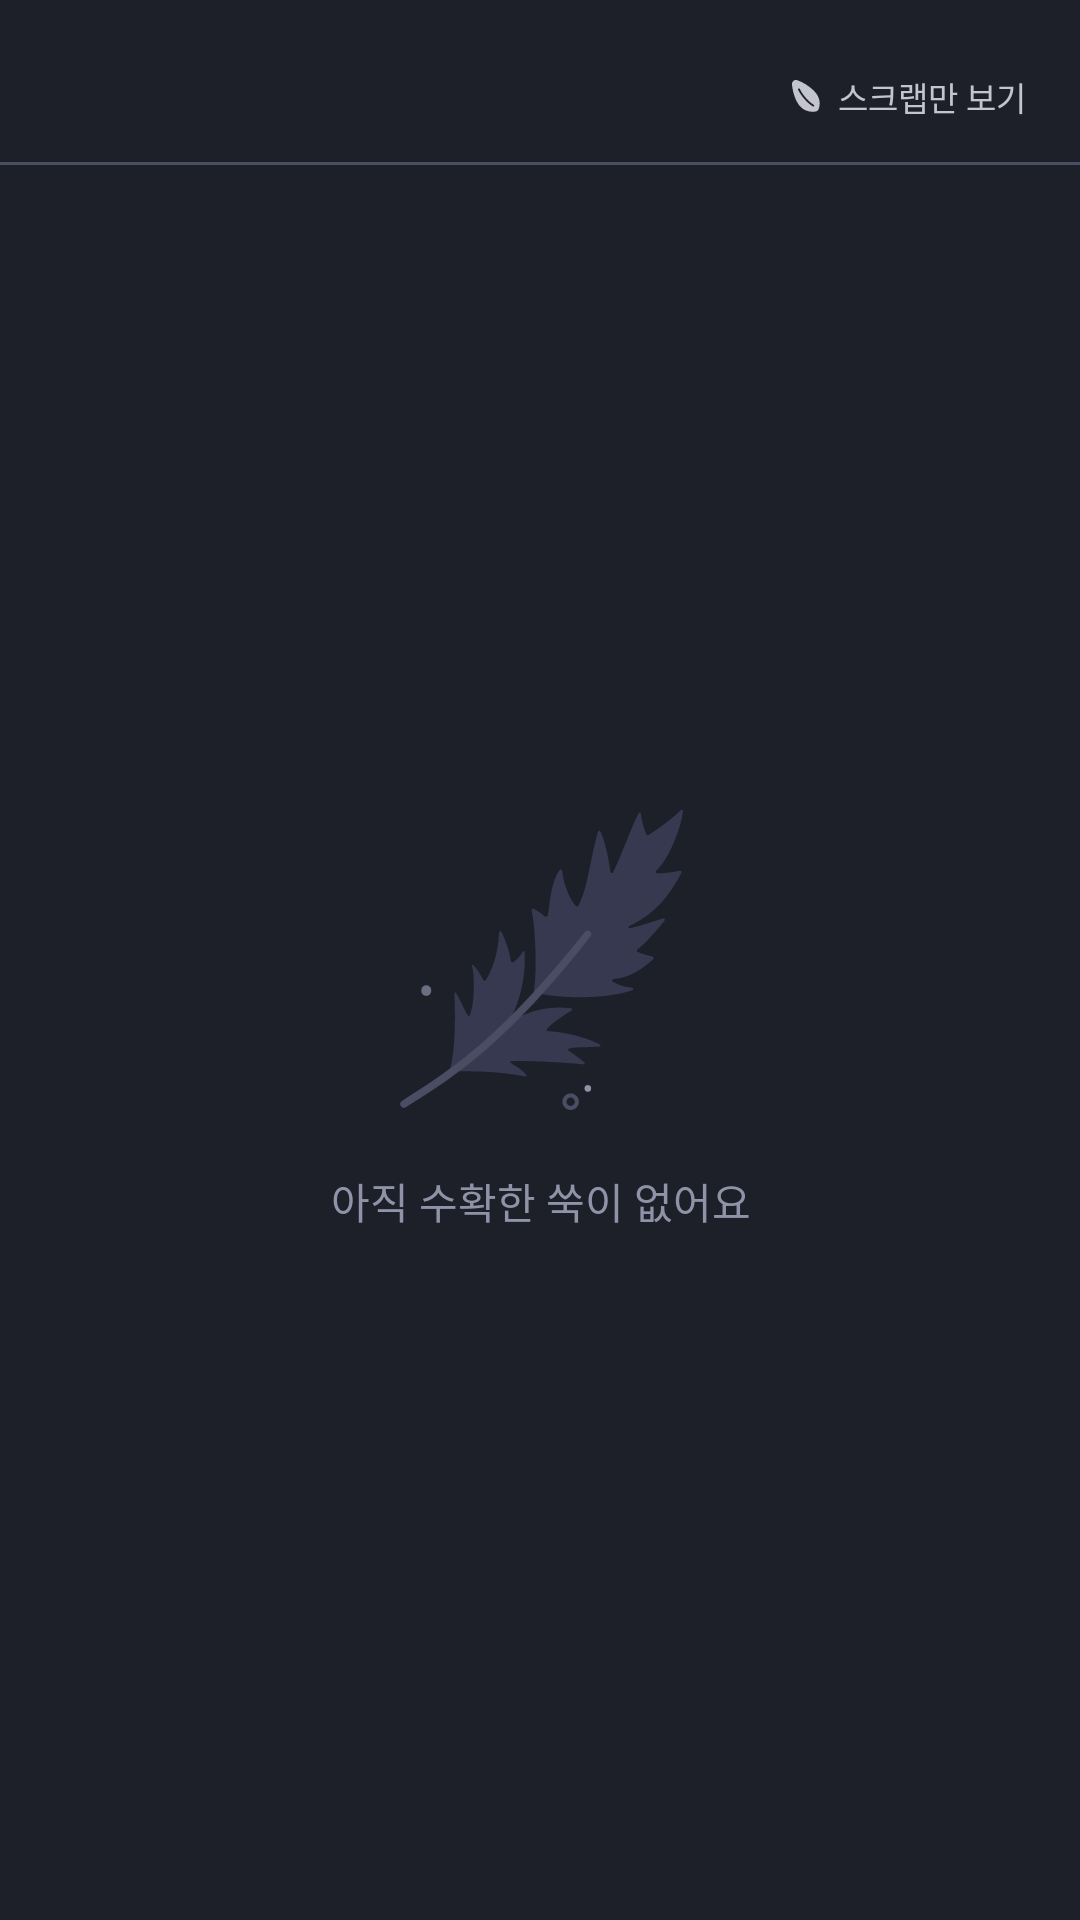

Icons on this 1080x1920 Android screen, each with the point to tap as point (x, y):
empty insight: point (541, 960)
